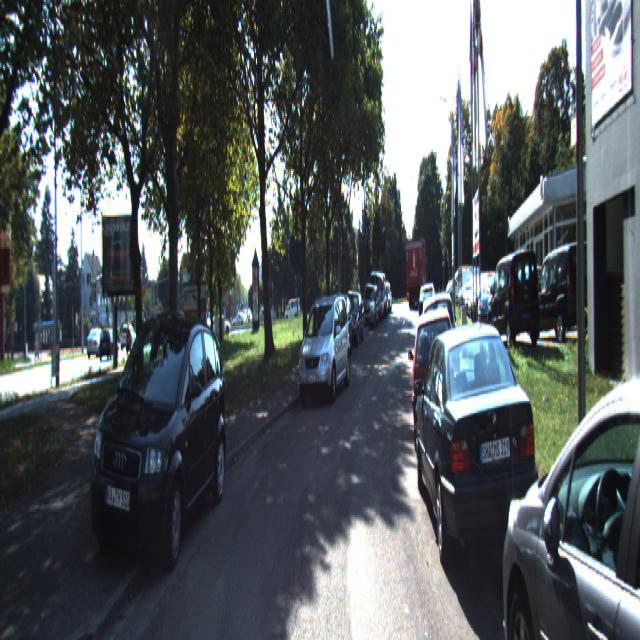Car: (489, 301, 640, 638), (88, 291, 229, 579), (413, 314, 544, 611), (410, 303, 461, 456), (530, 236, 596, 349), (295, 298, 351, 407), (486, 250, 542, 349), (405, 240, 428, 311), (338, 290, 366, 348), (360, 284, 380, 330)
